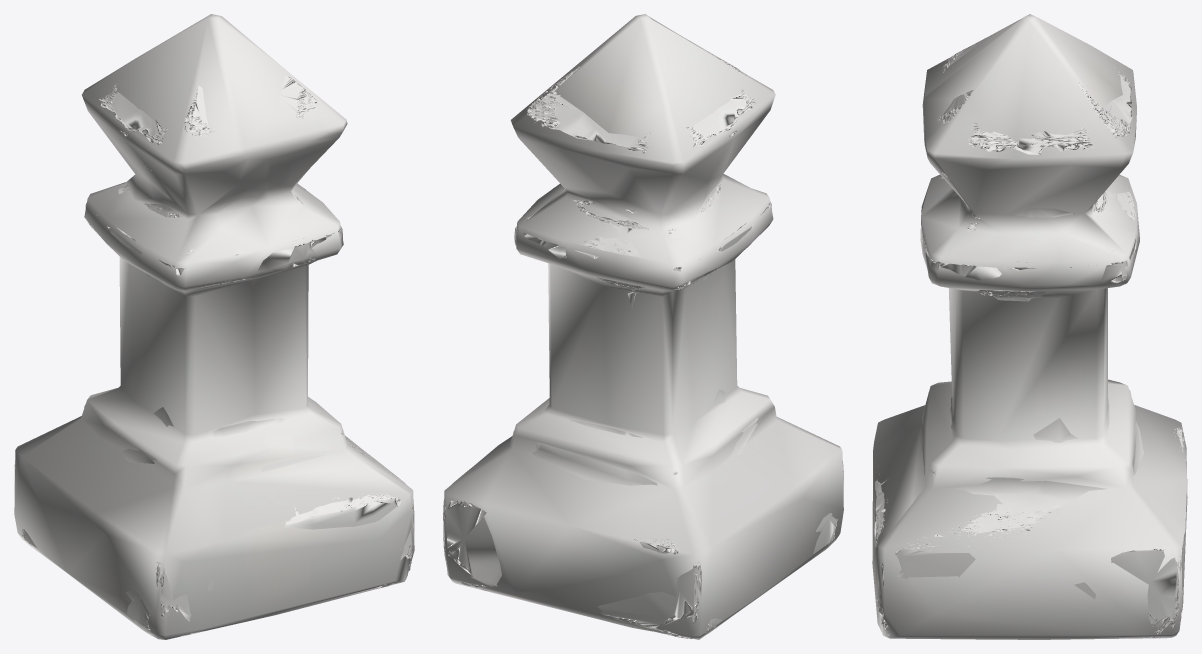
File: pawn_low.glb
The picture shows the model from 3 angles, left to right: view 1: azimuth 30°, elevation 25°; view 2: azimuth 150°, elevation 25°; view 3: azimuth 270°, elevation 25°; orthographic projection. The views are drawn at different scales.
Visible parts, largest first — view 1: world; view 2: world; view 3: world.
Boxes of the visible parts, x1,y1,x2,y2 form: world: [14, 14, 414, 639]; world: [443, 14, 843, 639]; world: [872, 14, 1187, 639].
Size of the model in its own units: 0.5148 by 1 by 0.5091.
1 material, 1 textured.
